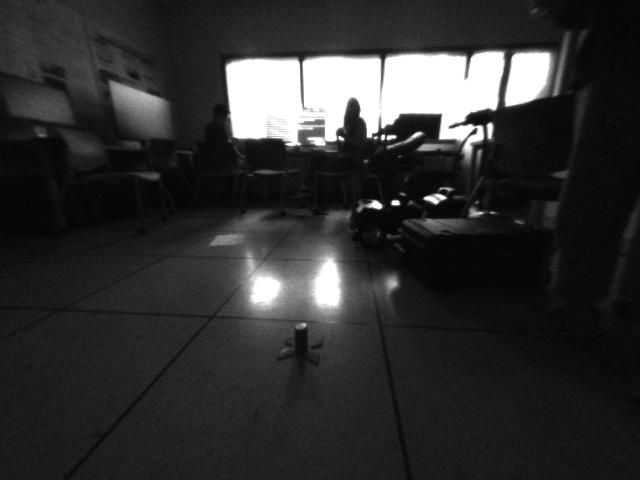x: (273, 321, 326, 365)
